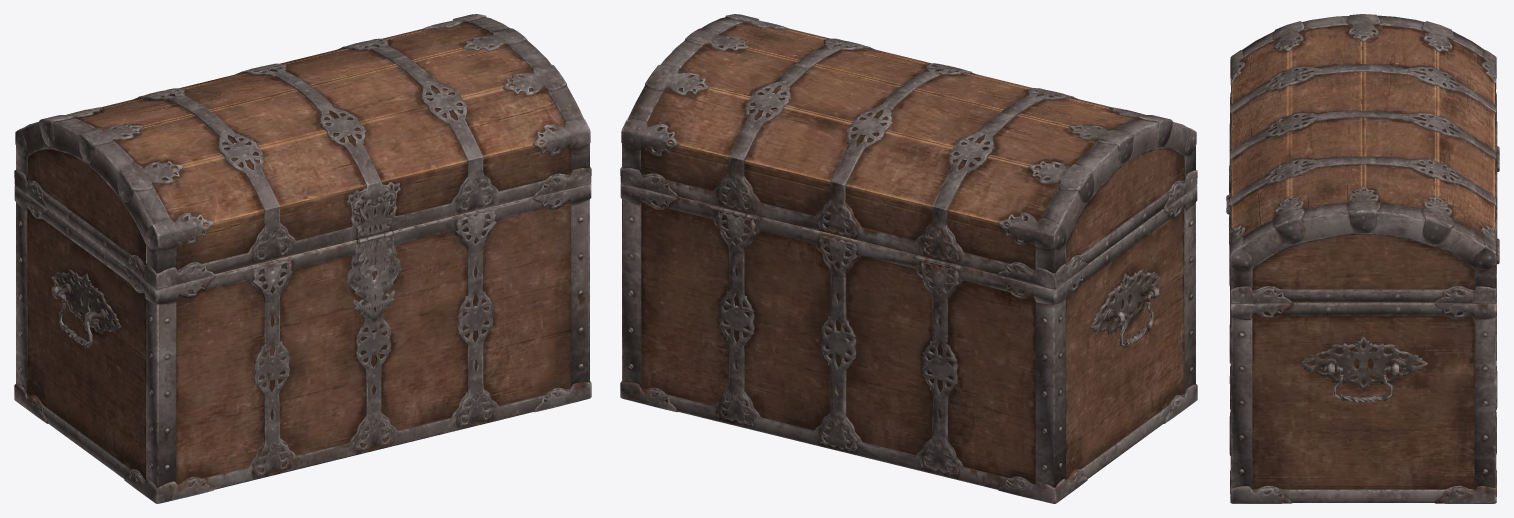
File: trunk.glb
3 renders of one model, left to right at view 1: azimuth 30°, elevation 25°; view 2: azimuth 150°, elevation 25°; view 3: azimuth 270°, elevation 25°, orthographic. The views are drawn at different scales.
Visible parts, largest first — view 1: treasure_chest_bottom, treasure_chest_lid, treasure_chest_lock; view 2: treasure_chest_bottom, treasure_chest_lid; view 3: treasure_chest_lid, treasure_chest_bottom, treasure_chest_handle_right.
Boxes of the visible parts, left/top/right/bottom form: treasure_chest_bottom: left=14, top=183, right=591, bottom=503; treasure_chest_lid: left=14, top=14, right=591, bottom=288; treasure_chest_lock: left=349, top=233, right=399, bottom=323; treasure_chest_bottom: left=620, top=183, right=1197, bottom=503; treasure_chest_lid: left=620, top=14, right=1197, bottom=288; treasure_chest_lid: left=1226, top=14, right=1499, bottom=303; treasure_chest_bottom: left=1229, top=152, right=1499, bottom=503; treasure_chest_handle_right: left=1320, top=365, right=1406, bottom=402.
Bounding box in the file's own units: 0.959 × 0.619 × 0.5227.
Materials: 1 (1 with a texture image).
